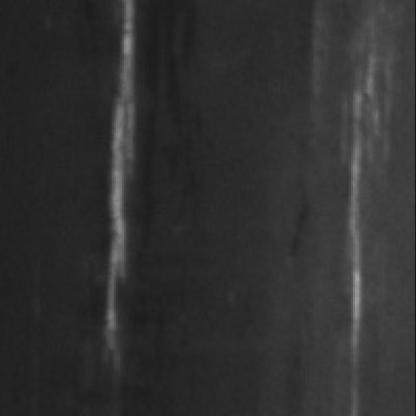scratches: (341, 23, 395, 389), (100, 0, 148, 354)
